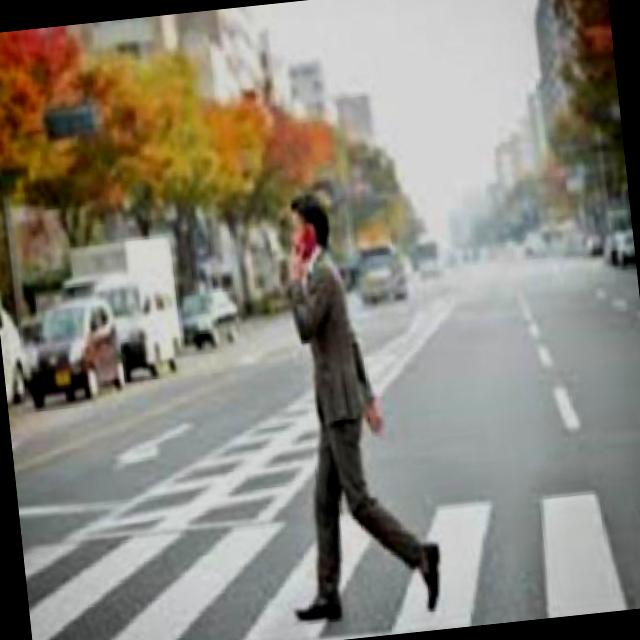Person: (240, 184, 470, 630)
